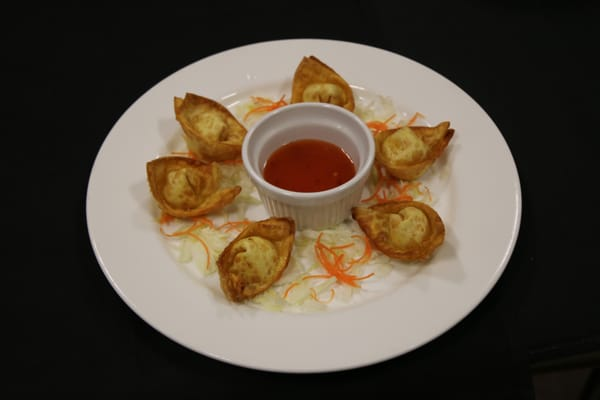sushi: (240, 100, 376, 231)
